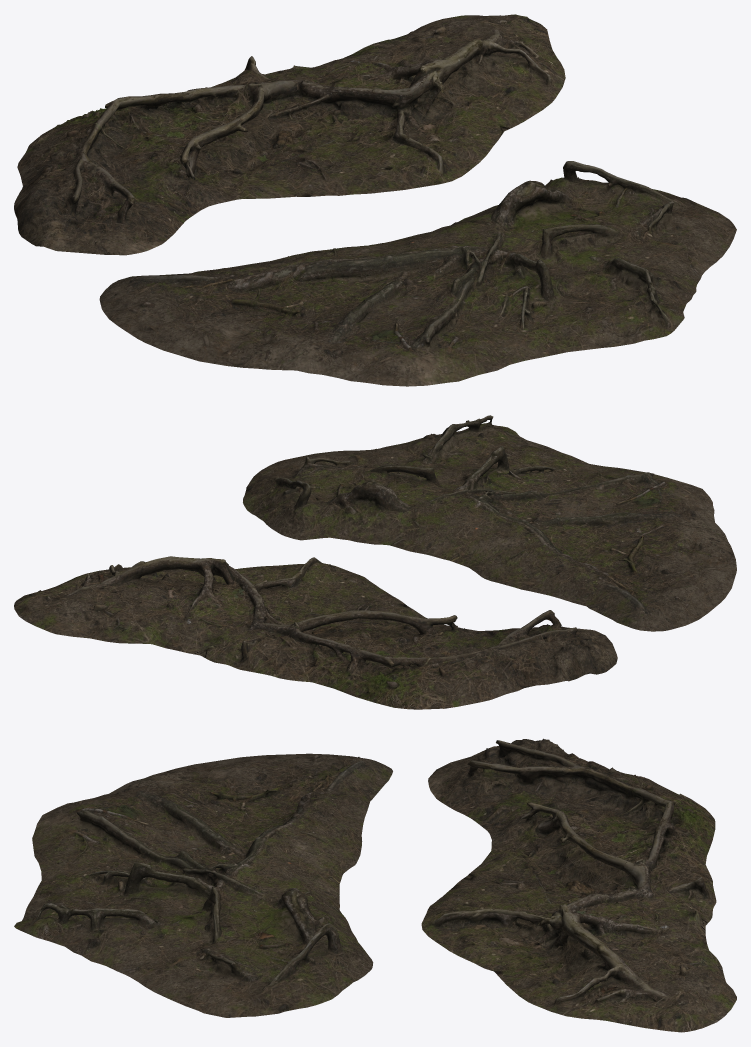
File: roots.glb
The picture shows the model from 3 angles, top to bottom: view 1: azimuth 30°, elevation 25°; view 2: azimuth 150°, elevation 25°; view 3: azimuth 270°, elevation 25°; orthographic projection. The views are drawn at different scales.
Parts seen in each view (by area): view 1: pine_roots_b, pine_roots_a; view 2: pine_roots_b, pine_roots_a; view 3: pine_roots_b, pine_roots_a.
Boxes of the visible parts, left/top/right/bottom form: pine_roots_b: left=99, top=161, right=736, bottom=386; pine_roots_a: left=14, top=14, right=565, bottom=255; pine_roots_b: left=243, top=415, right=736, bottom=631; pine_roots_a: left=14, top=556, right=617, bottom=709; pine_roots_b: left=14, top=753, right=392, bottom=1017; pine_roots_a: left=421, top=738, right=736, bottom=1032.
Bounding box in the file's own units: 1.77 × 0.1543 × 1.89.
2 materials, 2 textured.
